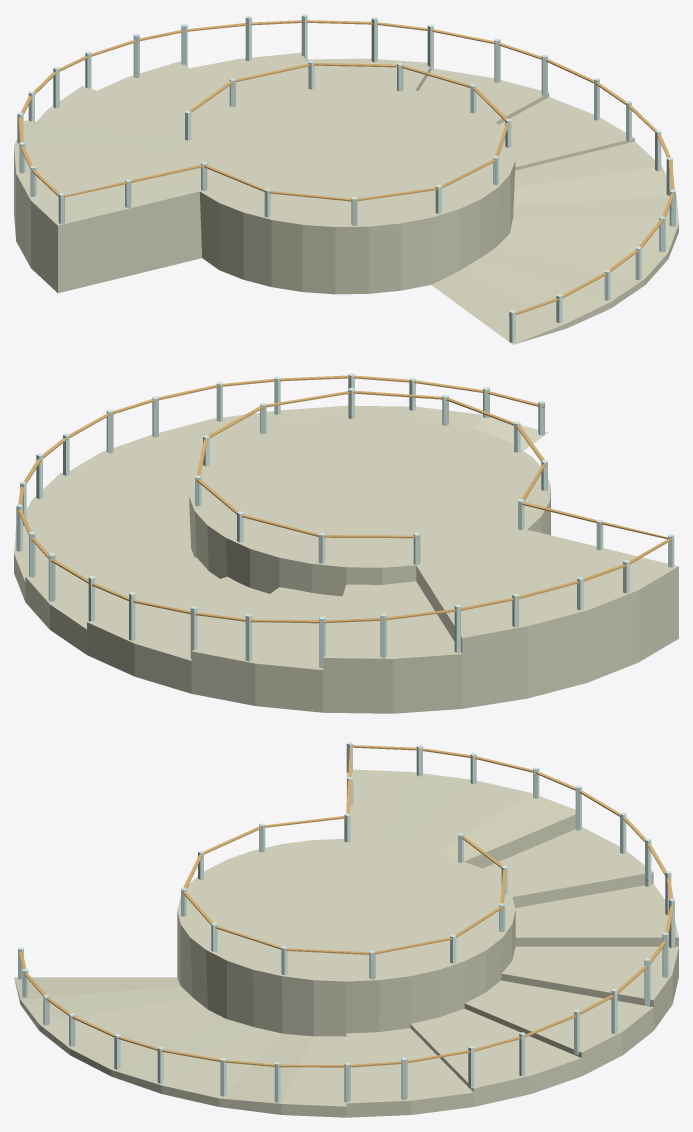
The model's file is observatory.fbx.
3 views of the same model, one above another, from view 1: azimuth 30°, elevation 25°; view 2: azimuth 150°, elevation 25°; view 3: azimuth 270°, elevation 25° (orthographic). The views are drawn at different scales.
Visible parts, largest first — view 1: kaidan, pilar, cube; view 2: kaidan, pilar, cube; view 3: kaidan, pilar, cube.
Boxes of the visible parts, box(x1,y1,x2,y2) form: kaidan: box(14, 52, 678, 344); pilar: box(17, 14, 675, 342); cube: box(18, 20, 674, 316); kaidan: box(14, 405, 678, 713); pilar: box(16, 373, 674, 668); cube: box(18, 375, 671, 623); kaidan: box(14, 769, 678, 1117); pilar: box(18, 742, 674, 1102); cube: box(19, 745, 673, 1067).
Size of the model in its own units: 200 by 31.9 by 200.
